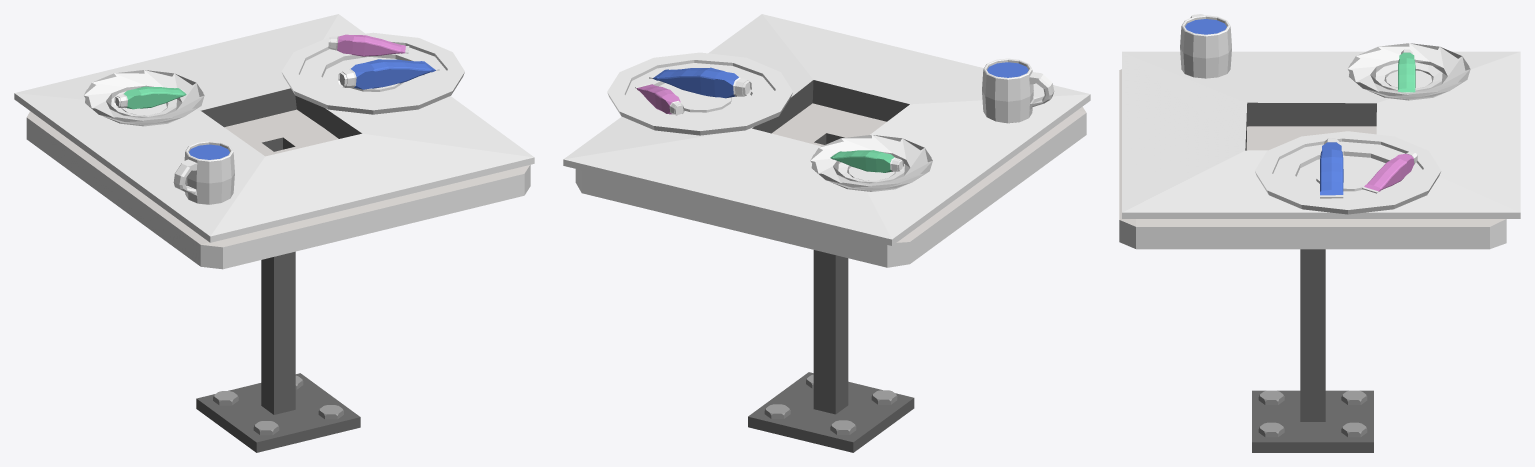
File: Dinner Table FixedScale.fbx
3 views of the same model, side by side, from view 1: azimuth 30°, elevation 25°; view 2: azimuth 150°, elevation 25°; view 3: azimuth 270°, elevation 25° (orthographic).
Parts seen in each view (by area): view 1: Cylinder.002; view 2: Cylinder.002; view 3: Cylinder.002.
Part boxes in pixels (x1,y1,x2,y2): Cylinder.002: [14, 14, 534, 452]; Cylinder.002: [563, 14, 1090, 452]; Cylinder.002: [1119, 14, 1520, 452].
Bounding box in the file's own units: 297 × 267 × 284.
